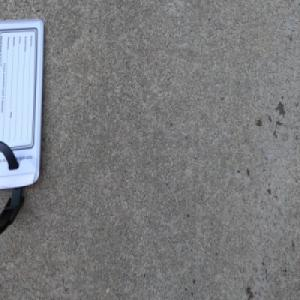LuggageTag: (0, 16, 45, 235)
